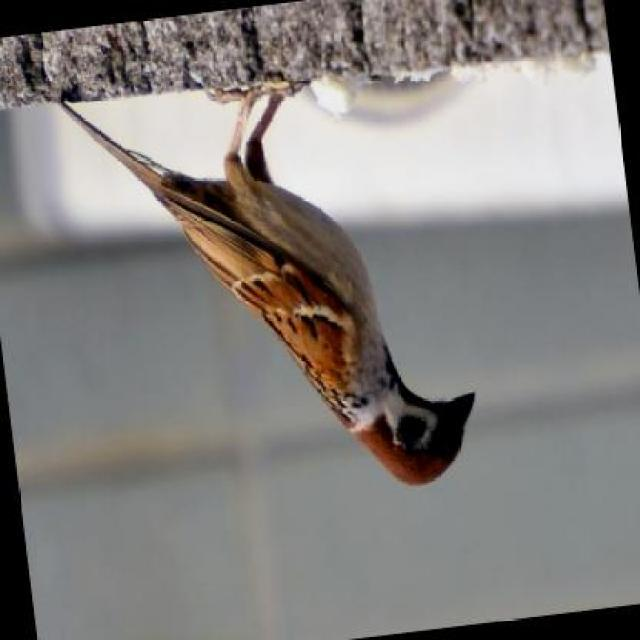Bird: (28, 74, 487, 490)
